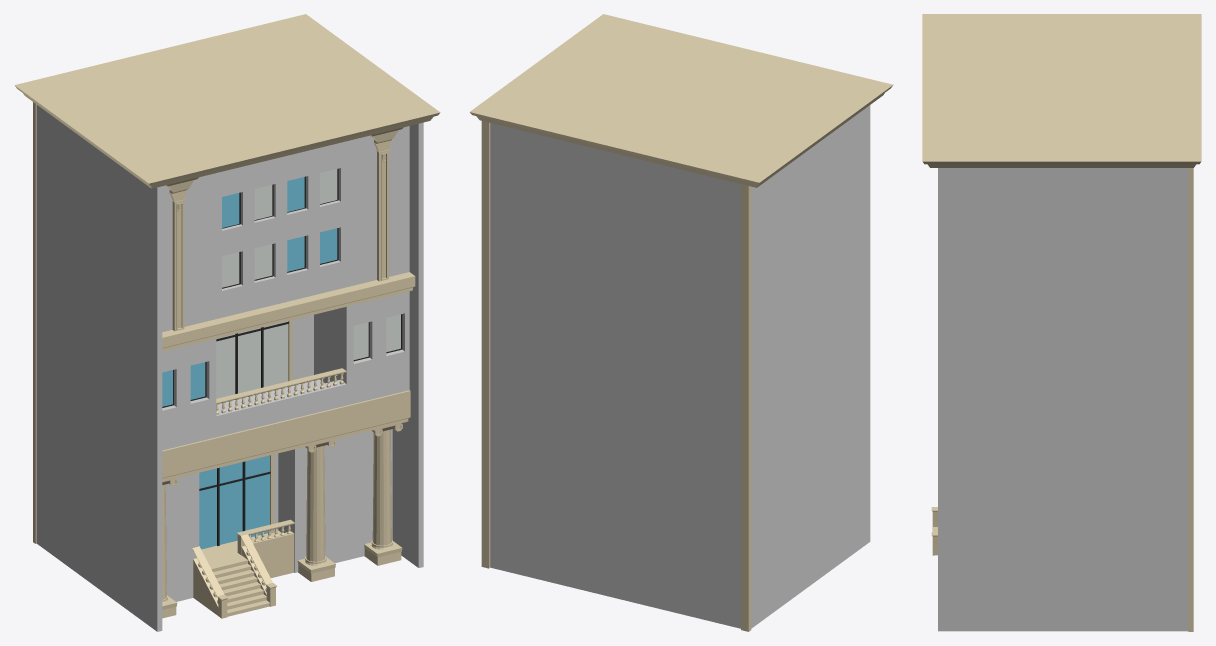
The model's file is Bloc_10F.fbx.
3 views of the same model, side by side, from view 1: azimuth 30°, elevation 25°; view 2: azimuth 150°, elevation 25°; view 3: azimuth 270°, elevation 25° (orthographic). The views are drawn at different scales.
Parts seen in each view (by area): view 1: Bloc_10F; view 2: Bloc_10F; view 3: Bloc_10F.
Part boxes in pixels (x1,y1,x2,y2): Bloc_10F: [14, 14, 440, 631]; Bloc_10F: [470, 14, 893, 631]; Bloc_10F: [922, 14, 1201, 631].
Size of the model in its own units: 1073 by 2015 by 1342.
